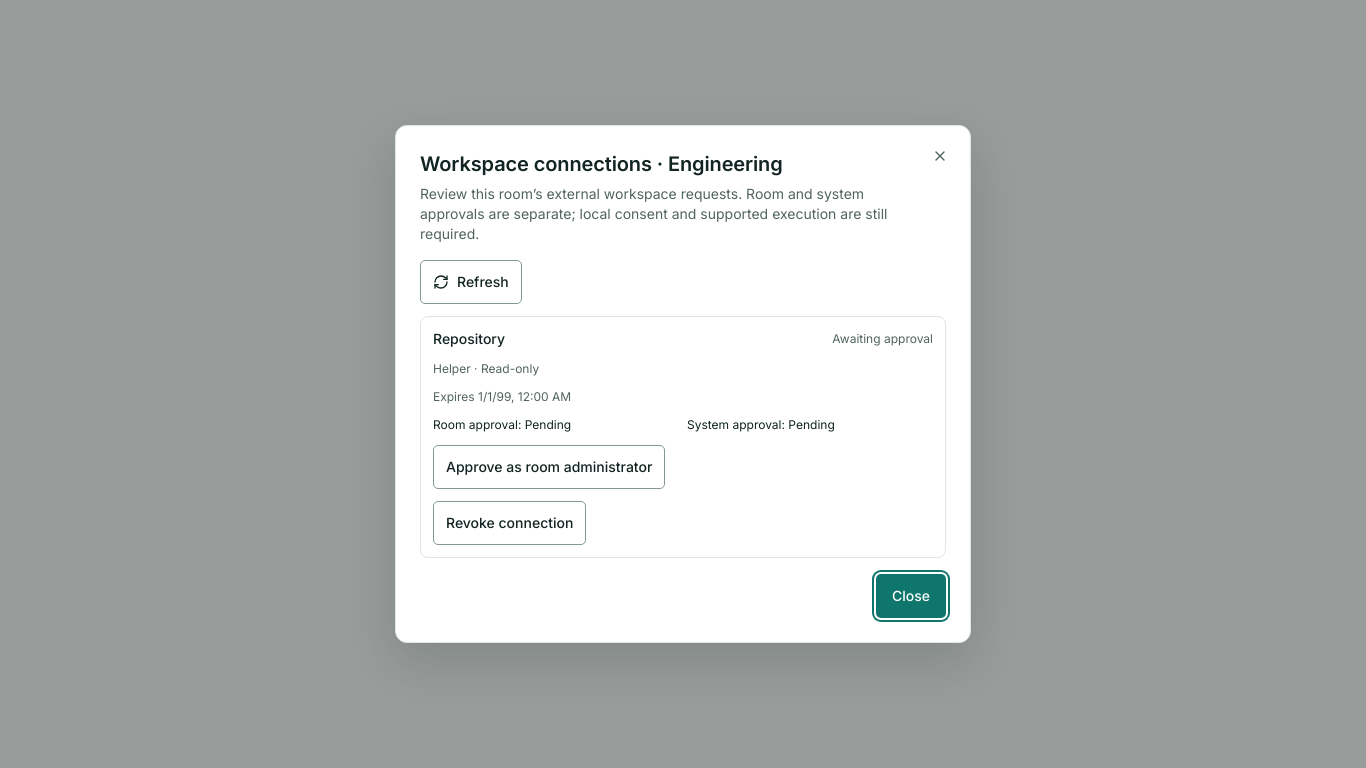
Test case: requires confirmation and preserves API errors when revocation fails
This screenshot has width=1366, height=768.
Click the button "Revoke connection" at coordinates (510, 523), box left=433, top=501, right=586, bottom=545
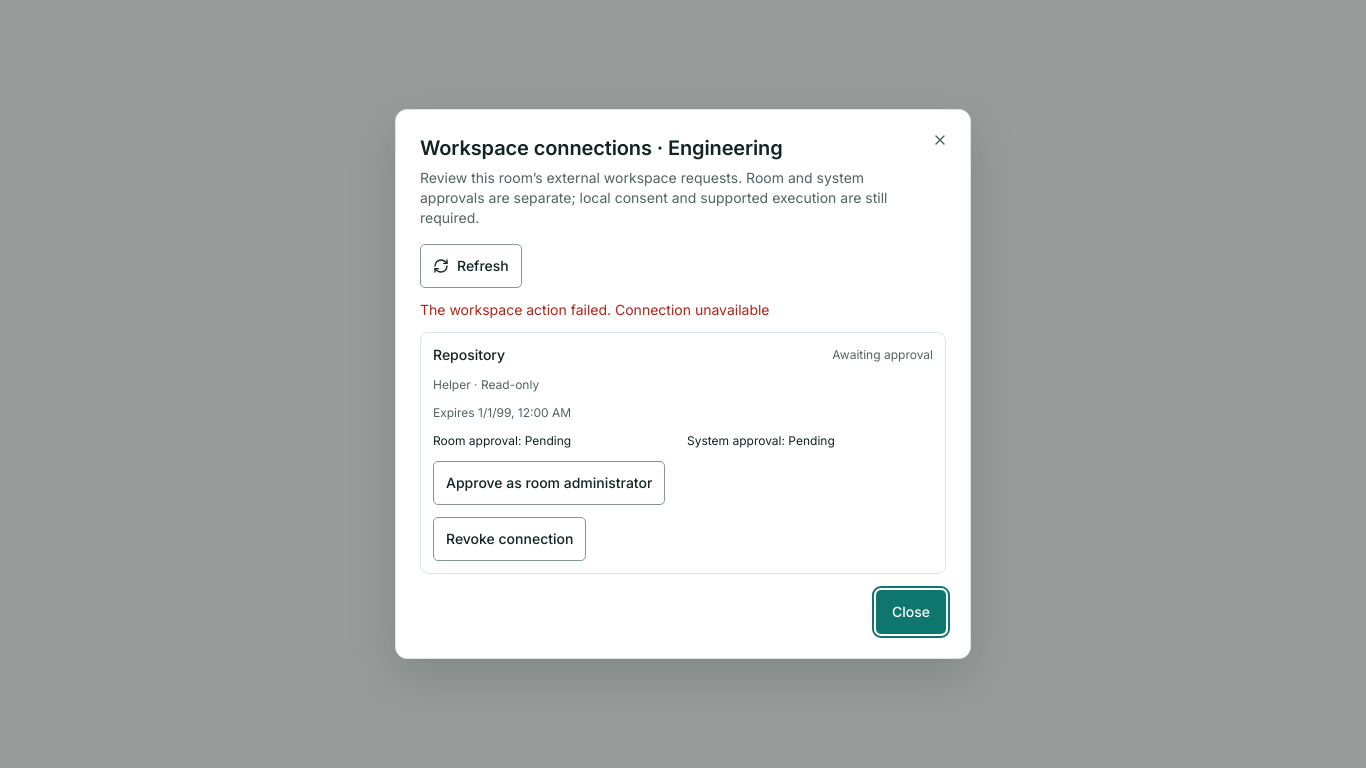
Now the message shows "Connection unavailable", box left=420, top=301, right=770, bottom=318
